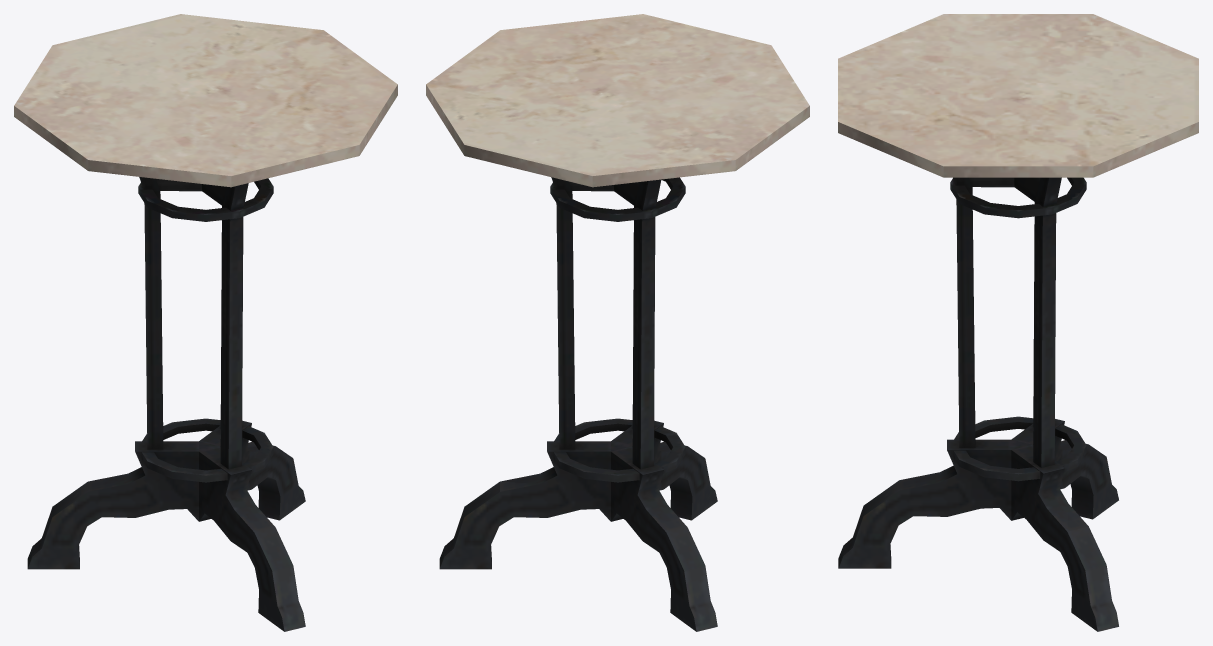
File: pedestalTable.fbx
The picture shows the model from 3 angles, left to right: view 1: azimuth 30°, elevation 25°; view 2: azimuth 150°, elevation 25°; view 3: azimuth 270°, elevation 25°; orthographic projection.
Visible parts, largest first — view 1: pedestal_table_01; view 2: pedestal_table_01; view 3: pedestal_table_01.
Boxes of the visible parts, box(x1,y1,x2,y2) form: pedestal_table_01: box(14, 14, 397, 631); pedestal_table_01: box(426, 14, 809, 631); pedestal_table_01: box(838, 14, 1198, 631).
Bounding box in the file's own units: 58.2 × 84.23 × 58.2.
Materials: 1 (1 with a texture image).
